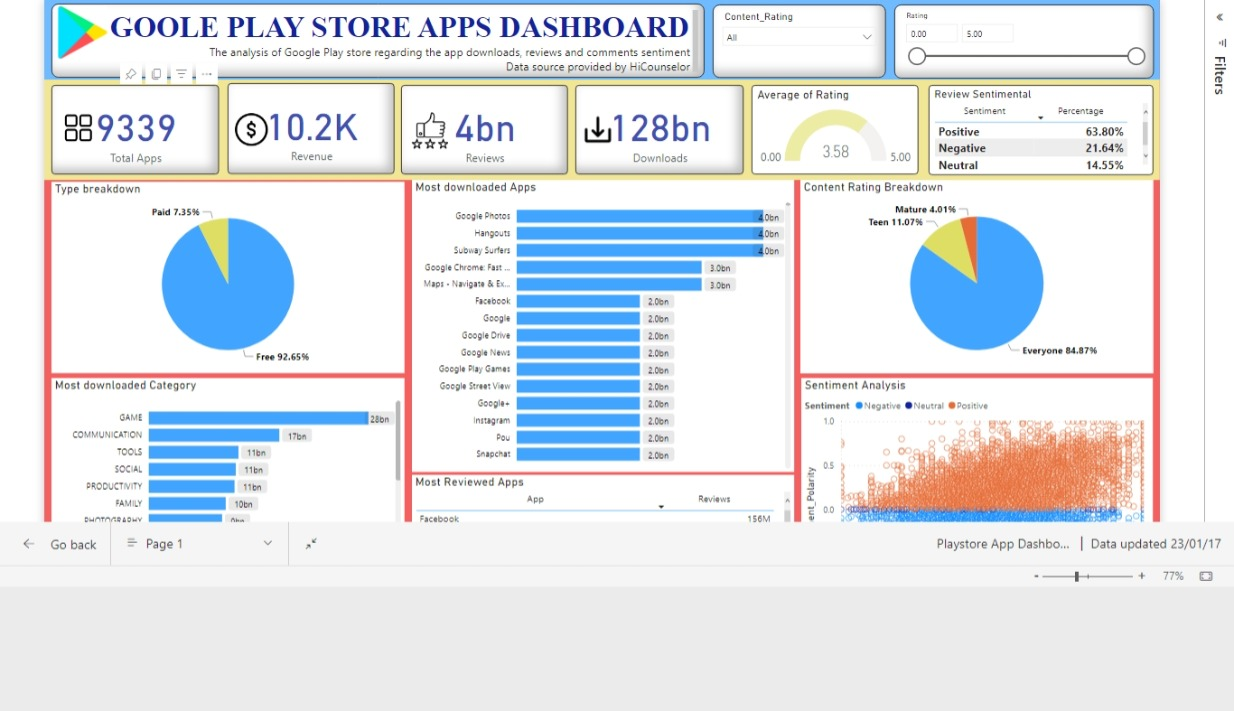

The page's visual inventory and layout, read from the dashboard file:
{"tool":"powerbi","page":{"name":"Page 1","canvas":[1600,900],"ordinal":0},"visuals":[{"type":"textbox","box":[0,112.3,1599.4,144.9],"z":0},{"type":"textbox","box":[0,0,1599.4,114.1],"z":1000},{"type":"textbox","box":[10,5,936,106],"z":2000},{"type":"image","box":[12.8,4.3,83.2,85.3],"z":3000},{"type":"pieChart","title":"Type breakdown","fields":{"Category":["cleaned_apps_file_v2.Type"],"Y":["CountNonNull(cleaned_apps_file_v2.App)"]},"box":[10,260,505.6,274.4],"z":4000},{"type":"card","fields":{"Values":["Count(cleaned_apps_file_v2.App)"]},"box":[10,122,240,128],"z":5000},{"type":"card","fields":{"Values":["Sum(cleaned_apps_file_v2.Price)"]},"box":[262.4,119.5,238.9,130.1],"z":6000},{"type":"card","fields":{"Values":["Sum(cleaned_apps_file_v2.Installs)"]},"box":[761.6,121.6,241.1,128],"z":7000},{"type":"card","fields":{"Values":["Sum(cleaned_apps_file_v2.Reviews)"]},"box":[512,121.6,238.9,128],"z":8000},{"type":"image","box":[21.7,110.5,54.3,144.9],"z":9000},{"type":"image","box":[266.7,130.1,59.7,110.9],"z":10000},{"type":"image","box":[521.7,114.1,61.6,144.9],"z":11000},{"type":"image","box":[768,114.1,50.7,143.1],"z":12000},{"type":"slicer","fields":{"Values":["cleaned_apps_file_v2.Rating"]},"box":[1218,6,372,106],"z":13000},{"type":"clusteredBarChart","title":"Most downloaded Category","fields":{"Category":["cleaned_apps_file_v2.Category"],"Y":["Sum(cleaned_apps_file_v2.Installs)"]},"box":[10,541.1,505.6,356.7],"z":14000},{"type":"clusteredBarChart","title":"Most downloaded Apps","fields":{"Y":["Sum(cleaned_apps_file_v2.Installs)"],"Category":["cleaned_apps_file_v2.App"]},"box":[526.7,258.3,548.3,418.3],"z":15000},{"type":"tableEx","title":"Most Reviewed Apps","fields":{"Values":["cleaned_apps_file_v2.App","Sum(cleaned_apps_file_v2.Reviews)"]},"box":[526.7,680,548.3,218.3],"z":16000},{"type":"pieChart","title":"Content Rating Breakdown","fields":{"Category":["cleaned_apps_file_v2.Content_Rating"],"Y":["CountNonNull(cleaned_apps_file_v2.Content_Rating)"]},"box":[1084.3,257.1,505.7,277.1],"z":17000},{"type":"gauge","title":"Average of Rating","fields":{"Y":["Avg(cleaned_apps_file_v2.Rating)"],"MinValue":["Min(cleaned_apps_file_v2.Rating)1"],"MaxValue":["Max(cleaned_apps_file_v2.Rating)"]},"box":[1013.3,121.6,238.9,128],"z":18000},{"type":"slicer","fields":{"Values":["cleaned_apps_file_v2.Content_Rating"]},"box":[958.3,6.7,248.3,105],"z":19000},{"type":"scatterChart","title":"Sentiment Analysis","fields":{"Y":["cleaned_reviews_file_v2.Sentiment_Polarity"],"X":["cleaned_reviews_file_v2.Sentiment_Subjectivity"],"Series":["cleaned_reviews_file_v2.Sentiment"]},"box":[1085,541.6,503.5,356.8],"z":20000},{"type":"tableEx","title":"Review Sentimental","fields":{"Values":["cleaned_reviews_file_v2.Sentiment","CountNonNull(cleaned_reviews_file_v2.Sentiment)"]},"box":[1267.9,121.4,322.4,128.6],"z":21000}]}

Visuals, with their boxes on the page's 1600x900 design canvas (x1, y1, x2, y2). These are canvas units, not pixel positions in the 1234x711 screenshot, which may show the page scaled, cropped or inside an application window:
textbox: (x1=0, y1=112, x2=1599, y2=257)
textbox: (x1=0, y1=0, x2=1599, y2=114)
textbox: (x1=10, y1=5, x2=946, y2=111)
image: (x1=13, y1=4, x2=96, y2=90)
"Type breakdown" pieChart: (x1=10, y1=260, x2=516, y2=534)
card - Count(cleaned_apps_file_v2.App): (x1=10, y1=122, x2=250, y2=250)
card - Sum(cleaned_apps_file_v2.Price): (x1=262, y1=120, x2=501, y2=250)
card - Sum(cleaned_apps_file_v2.Installs): (x1=762, y1=122, x2=1003, y2=250)
card - Sum(cleaned_apps_file_v2.Reviews): (x1=512, y1=122, x2=751, y2=250)
image: (x1=22, y1=110, x2=76, y2=255)
image: (x1=267, y1=130, x2=326, y2=241)
image: (x1=522, y1=114, x2=583, y2=259)
image: (x1=768, y1=114, x2=819, y2=257)
slicer - cleaned_apps_file_v2.Rating: (x1=1218, y1=6, x2=1590, y2=112)
"Most downloaded Category" clusteredBarChart: (x1=10, y1=541, x2=516, y2=898)
"Most downloaded Apps" clusteredBarChart: (x1=527, y1=258, x2=1075, y2=677)
"Most Reviewed Apps" tableEx: (x1=527, y1=680, x2=1075, y2=898)
"Content Rating Breakdown" pieChart: (x1=1084, y1=257, x2=1590, y2=534)
"Average of Rating" gauge: (x1=1013, y1=122, x2=1252, y2=250)
slicer - cleaned_apps_file_v2.Content_Rating: (x1=958, y1=7, x2=1207, y2=112)
"Sentiment Analysis" scatterChart: (x1=1085, y1=542, x2=1588, y2=898)
"Review Sentimental" tableEx: (x1=1268, y1=121, x2=1590, y2=250)
